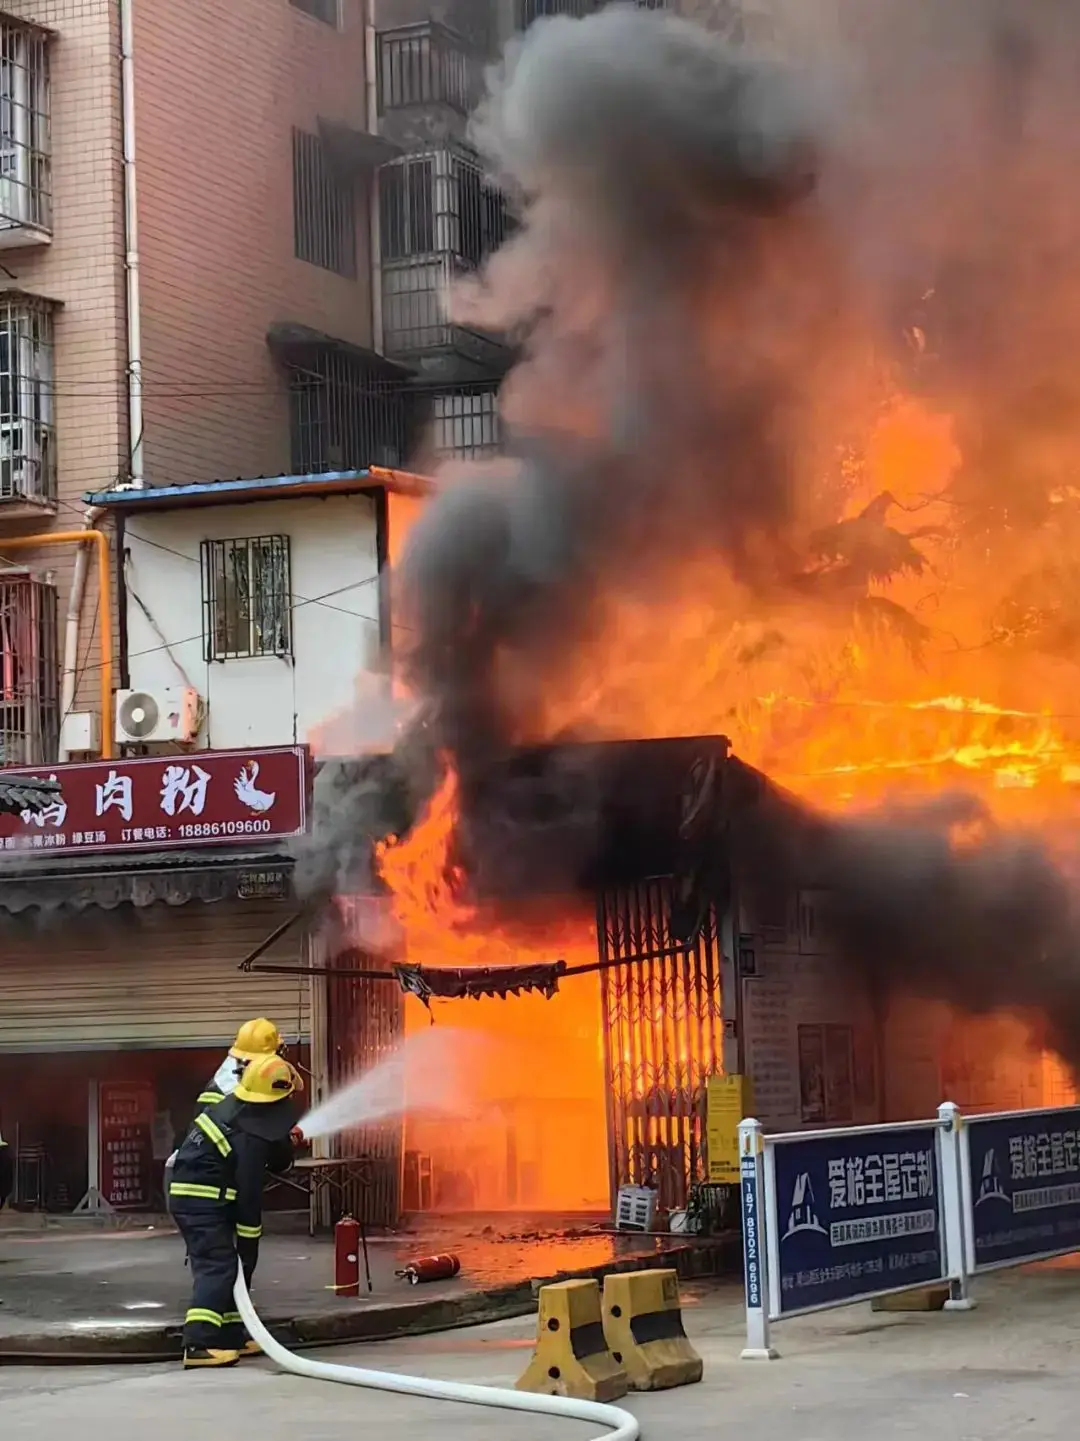fire: (330, 11, 1077, 1229)
